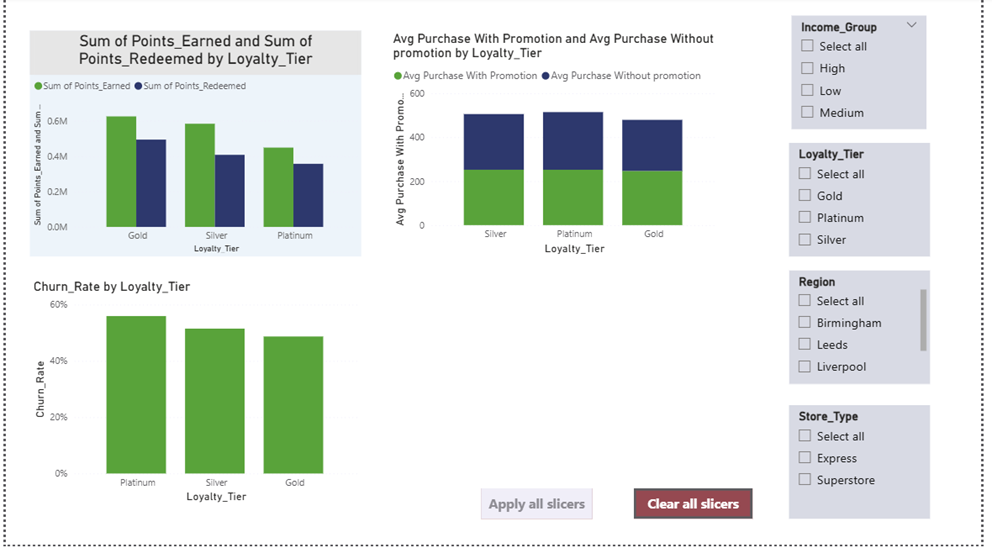

This screenshot's page, from the dashboard's own definition file:
{"tool":"powerbi","page":{"name":"Loyalty & Promotion Impact","canvas":[1280,720],"ordinal":6},"visuals":[{"type":"slicer","fields":{"Values":["customer_Demographics_Transaction.Income_Group"]},"box":[1032,24.8,177.2,149.1],"z":0,"group":"g1"},{"type":"clusteredColumnChart","fields":{"Y":["Sum(Loyalty_Program.Points_Earned)","Sum(Loyalty_Program.Points_Redeemed)"],"Category":["Loyalty_Program.Loyalty_Tier"]},"box":[31.5,44.7,435.7,296.5],"z":0},{"type":"columnChart","fields":{"Y":["Calculation_Dump.Avg Purchase With Promotion","Calculation_Dump.Avg Purchase Without promotion"],"Category":["Loyalty_Program.Loyalty_Tier"]},"box":[503.6,44.7,435.7,298.2],"z":1000},{"type":"slicer","fields":{"Values":["Loyalty_Program.Loyalty_Tier"]},"box":[1028.7,192.1,185.5,149.1],"z":1000,"group":"g1"},{"type":"slicer","fields":{"Values":["customer_Demographics_Transaction.Region"]},"box":[1028.7,359.4,185.5,149.1],"z":2000,"group":"g1"},{"type":"columnChart","fields":{"Y":["Calculation_Dump.Churn_Rate"],"Category":["Loyalty_Program.Loyalty_Tier"]},"box":[31.5,371.1,435.7,298.2],"z":2000},{"type":"group","id":"g1","title":"Group 1","box":[1028.7,24.8,185.5,660.9],"z":3000},{"type":"slicer","fields":{"Values":["Store_Locations.Store_Type"]},"box":[1028.7,536.7,185.5,149.1],"z":3000,"group":"g1"},{"type":"actionButton","box":[824.9,646,155.7,39.8],"z":3000,"group":"g2"},{"type":"group","id":"g2","title":"Group 2","box":[624.5,646,356.1,39.8],"z":4000},{"type":"actionButton","box":[624.5,646,145.8,39.8],"z":4000,"group":"g2"}]}

Visuals, with their boxes in screenshot pixels (x1, y1, x2, y2), scaled from the page's 1280x720 canvas onto the 992x548 screenshot:
slicer - customer_Demographics_Transaction.Income_Group: x1=800, y1=19, x2=937, y2=132
clusteredColumnChart - Sum(Loyalty_Program.Points_Earned) x Sum(Loyalty_Program.Points_Redeemed): x1=24, y1=34, x2=362, y2=260
columnChart - Calculation_Dump.Avg Purchase With Promotion x Calculation_Dump.Avg Purchase Without promotion: x1=390, y1=34, x2=728, y2=261
slicer - Loyalty_Program.Loyalty_Tier: x1=797, y1=146, x2=941, y2=260
slicer - customer_Demographics_Transaction.Region: x1=797, y1=274, x2=941, y2=387
columnChart - Calculation_Dump.Churn_Rate x Loyalty_Program.Loyalty_Tier: x1=24, y1=282, x2=362, y2=509
"Group 1" group: x1=797, y1=19, x2=941, y2=522
slicer - Store_Locations.Store_Type: x1=797, y1=408, x2=941, y2=522
actionButton: x1=639, y1=492, x2=760, y2=522
"Group 2" group: x1=484, y1=492, x2=760, y2=522
actionButton: x1=484, y1=492, x2=597, y2=522
